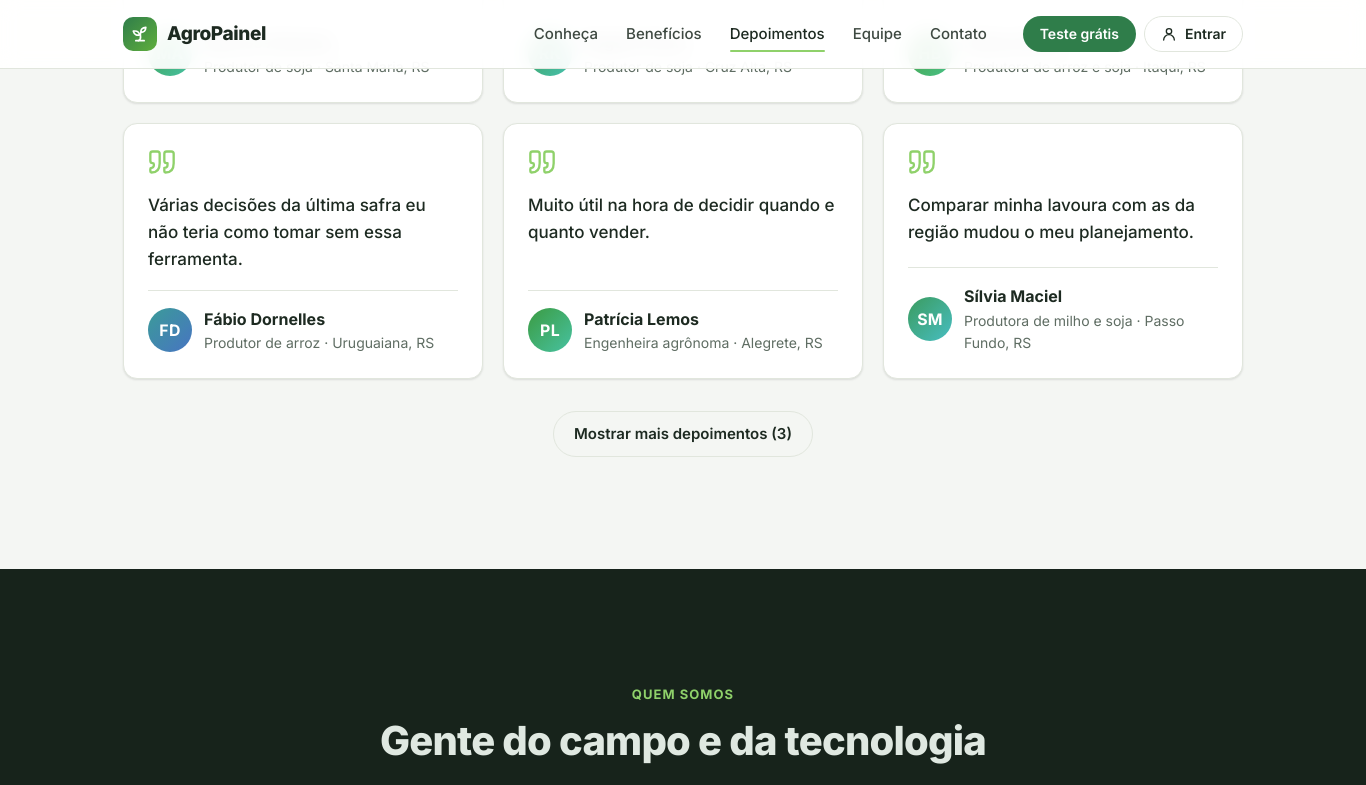
Test case: Landing page › carrega mais depoimentos
The width and height of the screenshot is (1366, 785).
(page scrolled)
Click the button "Mostrar mais depoimentos (3)": (683, 435) [553, 412, 813, 458]
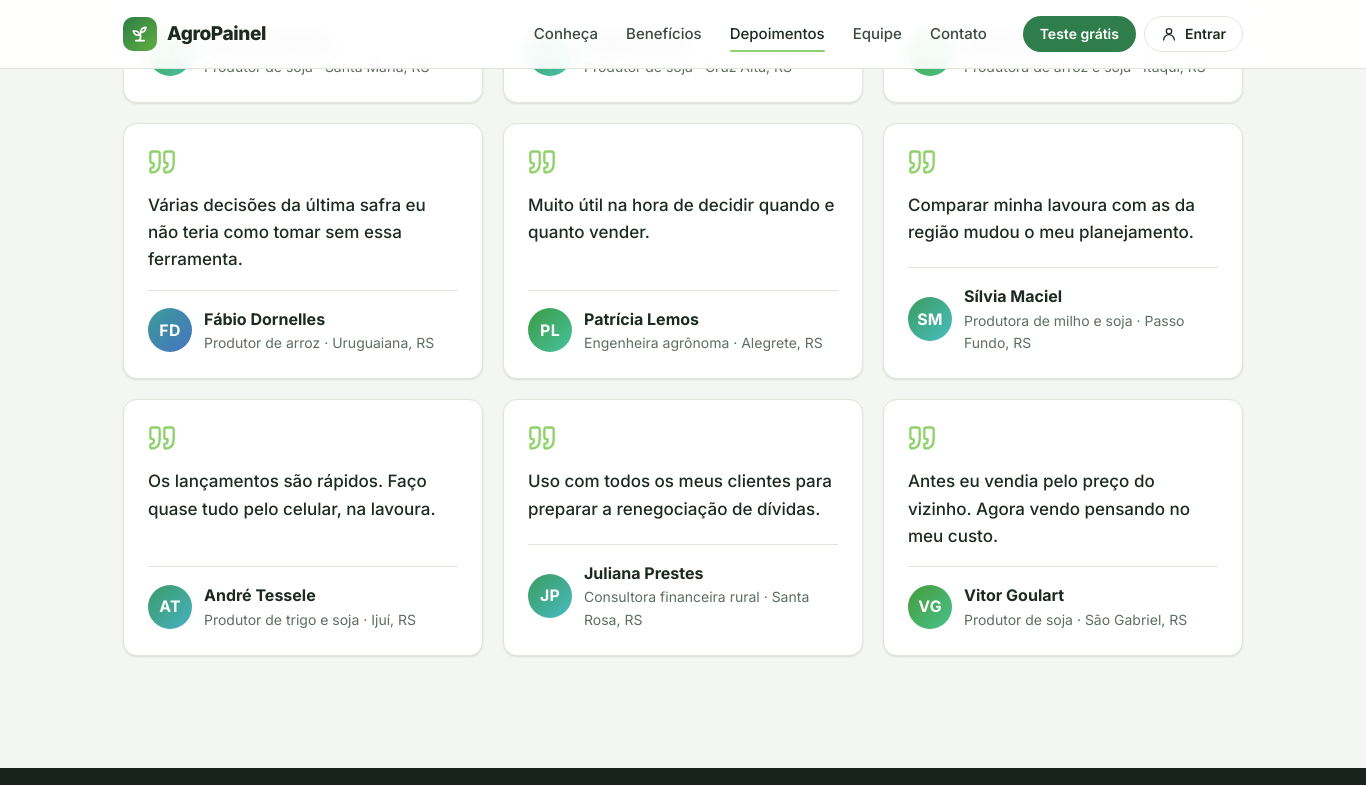
expect the button "Mostrar mais depoimentos" is gone: met
